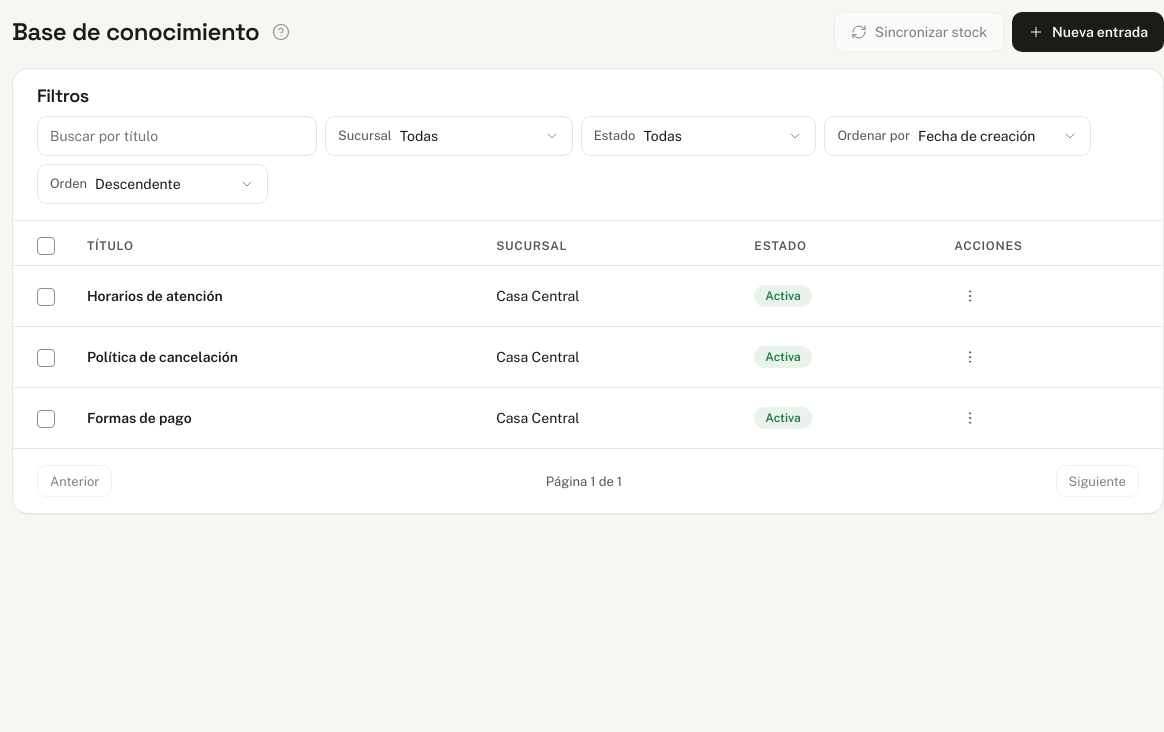
Test: KnowledgeBaseListPage — selección múltiple › tildar de a una muestra el conteo, en singular y en plural
The width and height of the screenshot is (1164, 732).
expect the text "Horarios de atención" is shown: met, box [71,266,480,327]
What coordinates should you click on to do the following:
click the checkbox named "Seleccionar la entrada \"Horarios de atención\""
I would click on:
 (46, 297)
Its box is [37,288,55,306].
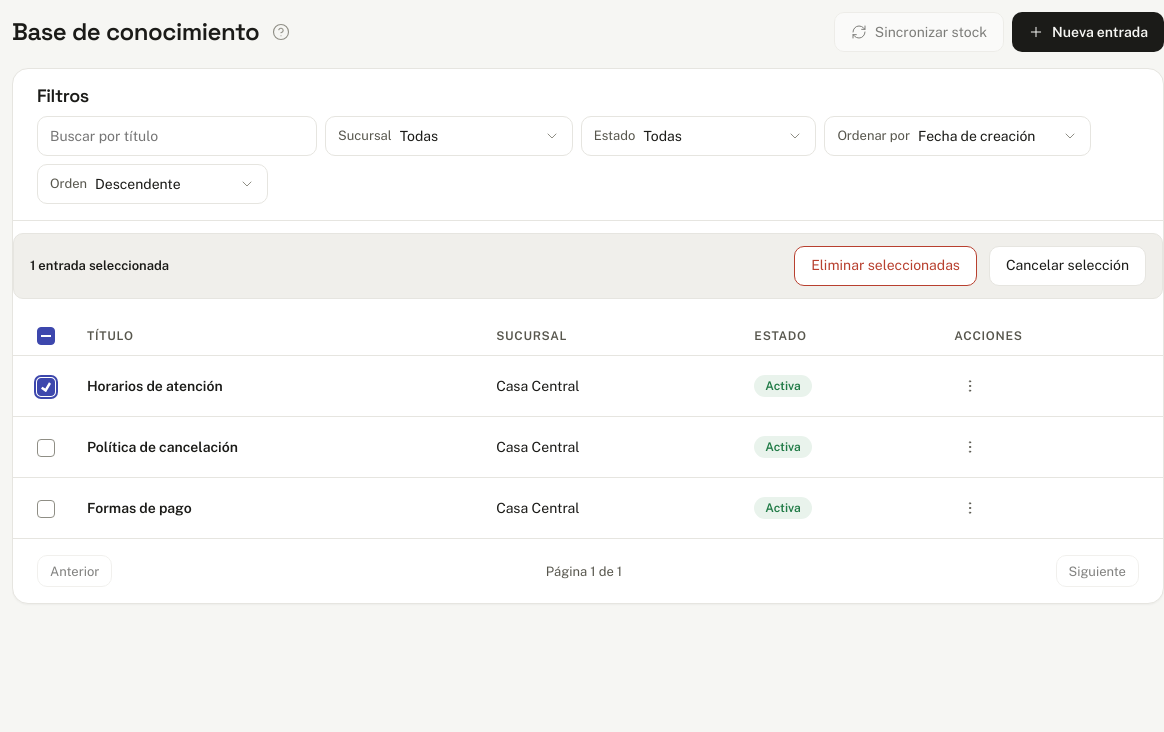
expect the text "1 entrada seleccionada" is shown: met, box [30,256,169,275]
What coordinates should you click on to do the following:
click the checkbox named "Seleccionar la entrada \"Formas de pago\""
I would click on:
 (46, 509)
Its box is [37,500,55,518].
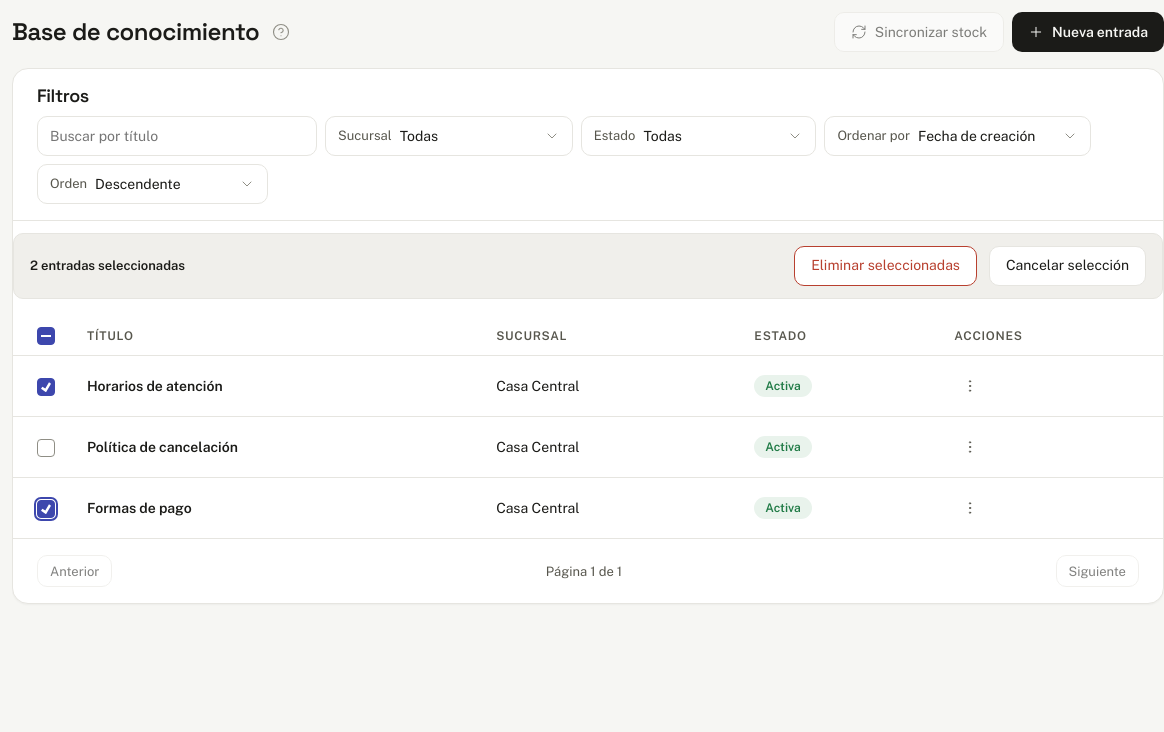
expect the text "2 entradas seleccionadas" is shown: met, box [30,256,185,275]
What coordinates should you click on to do the following:
click the checkbox named "Seleccionar la entrada \"Formas de pago\""
I would click on:
 (46, 509)
Its box is [37,500,55,518].
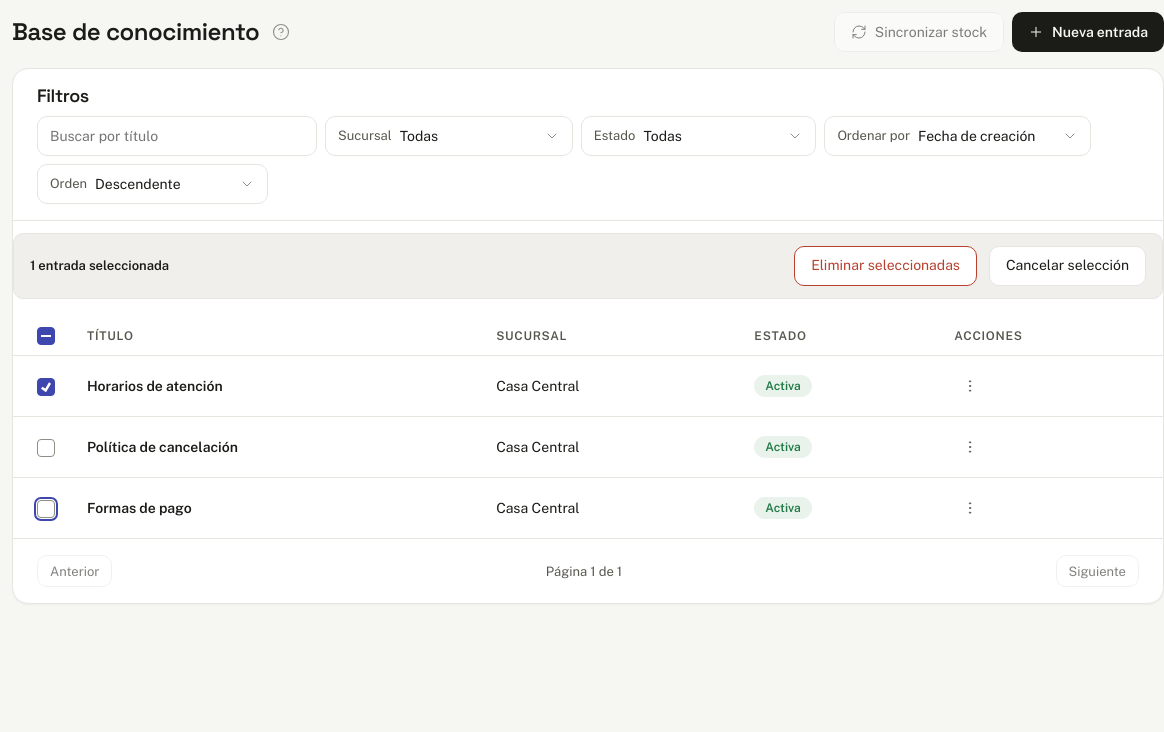
expect the text "1 entrada seleccionada" is shown: met, box [30,256,169,275]
